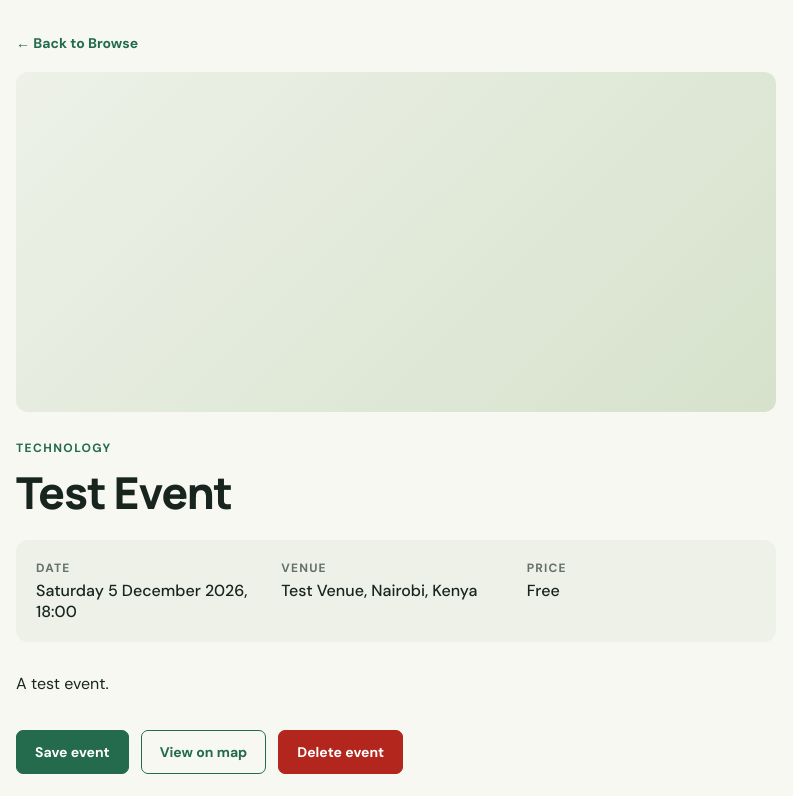
Test: EventDetails page › shows an error and stays put when the delete fails
The image size is (793, 796).
Click the button "Delete event" at (341, 752), box [278, 730, 403, 774]
(page scrolled)
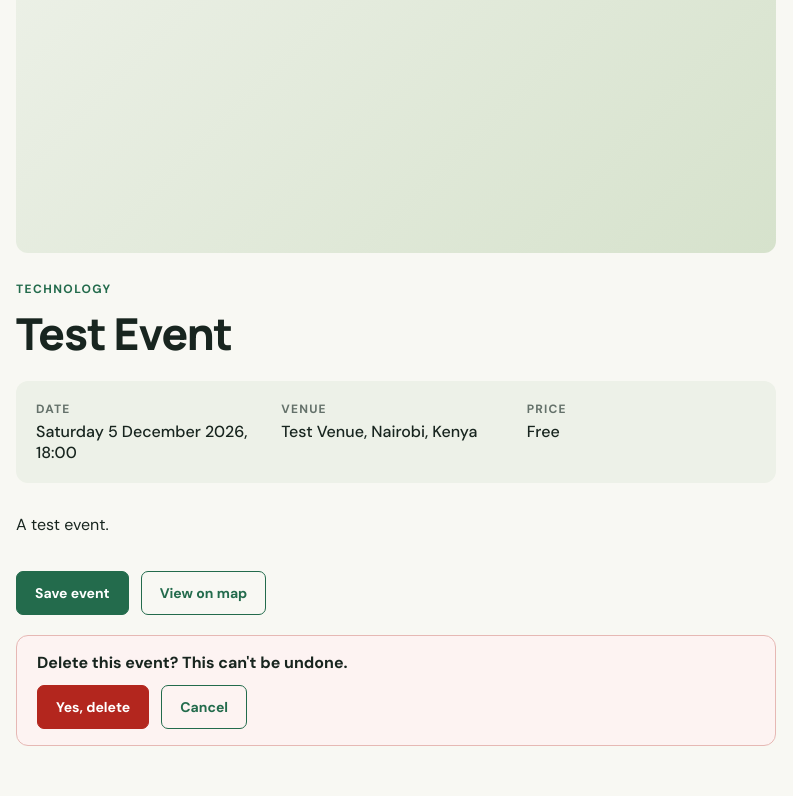
Click the button "Yes, delete" at (93, 707), box [37, 685, 149, 729]
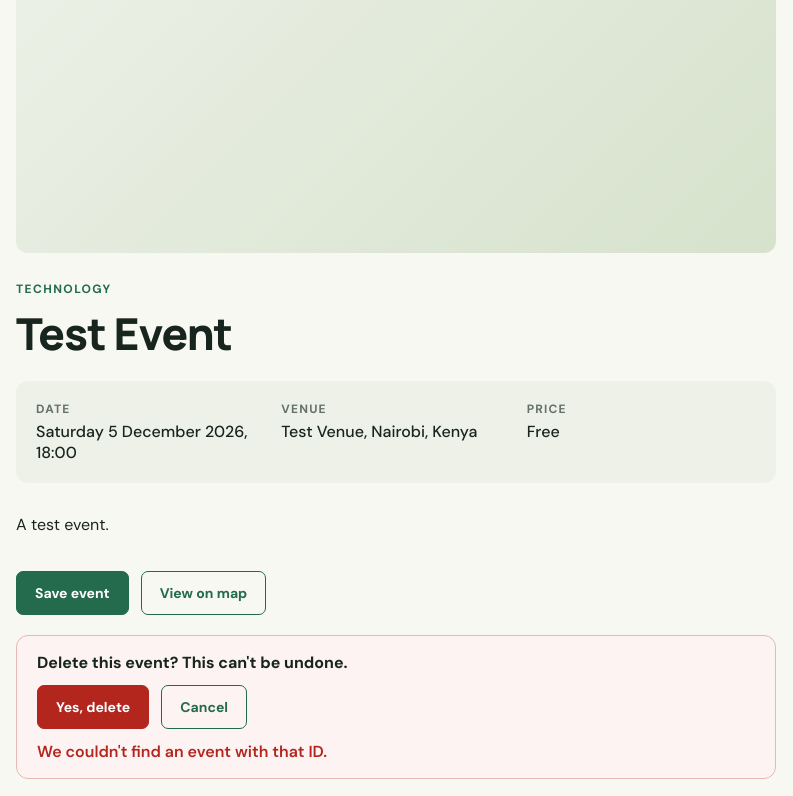
Expected: the heading "Test Event" is shown, [16, 303, 232, 363]
Now the message "We couldn't find an event with that ID." is shown, box [37, 741, 327, 762]
